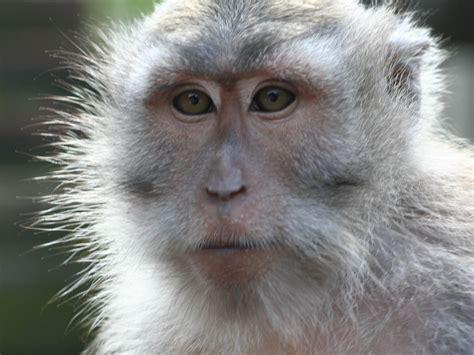monkey: (86, 1, 471, 355)
